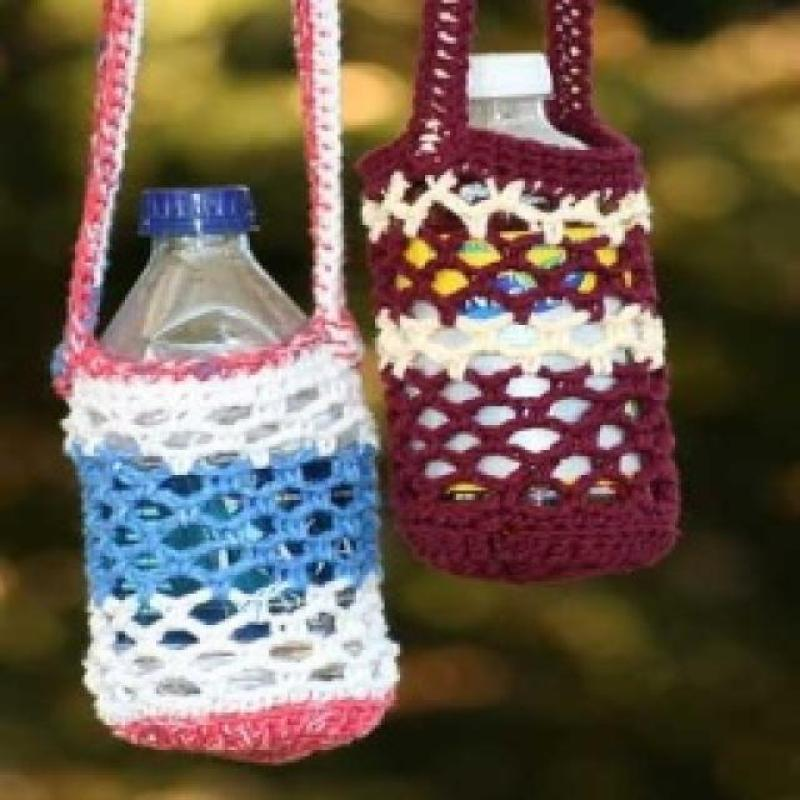botella: (89, 176, 305, 368), (454, 48, 586, 152)
